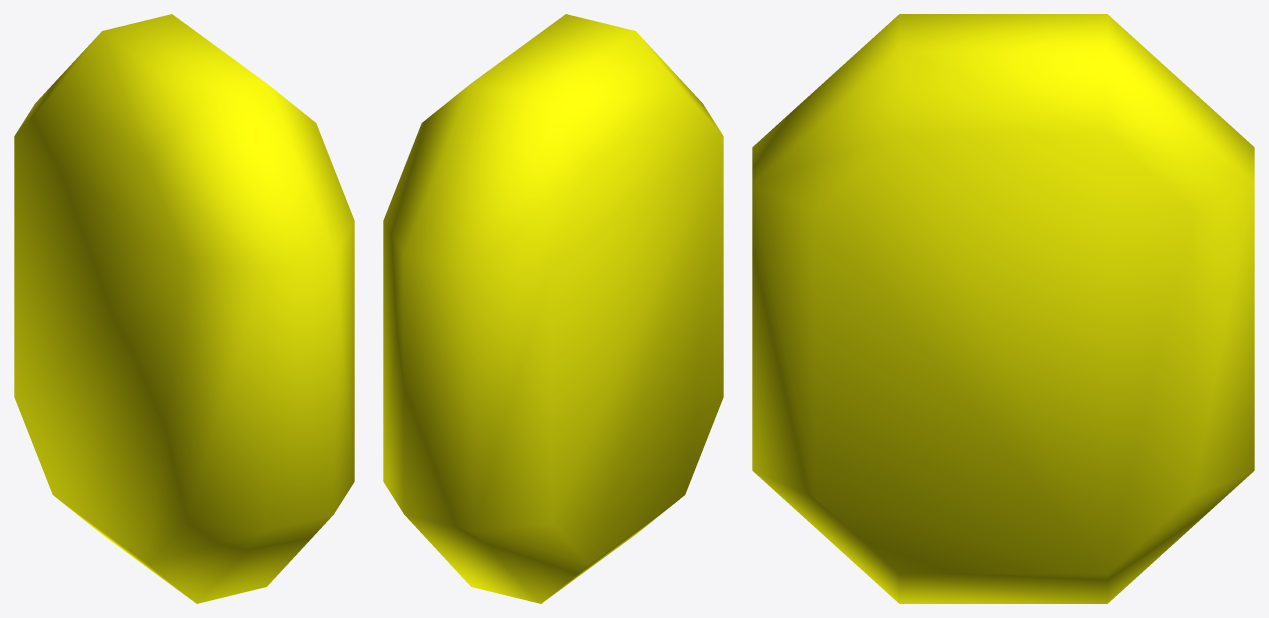
Rendered from A0509_4_0.bbox.gltf.
3 renders of one model, left to right at view 1: azimuth 30°, elevation 25°; view 2: azimuth 150°, elevation 25°; view 3: azimuth 270°, elevation 25°, orthographic. The views are drawn at different scales.
Parts seen in each view (by area): view 1: A0509_4_0.bbox; view 2: A0509_4_0.bbox; view 3: A0509_4_0.bbox.
Part boxes in pixels (left/top/right/bottom): A0509_4_0.bbox: left=14, top=14, right=354, bottom=603; A0509_4_0.bbox: left=383, top=14, right=723, bottom=603; A0509_4_0.bbox: left=752, top=14, right=1254, bottom=603.
Bounding box in the file's own units: 90.39 × 258 × 212.
